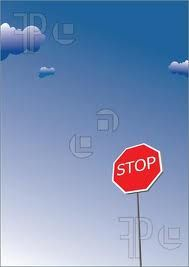stop_sign: (111, 142, 164, 194)
